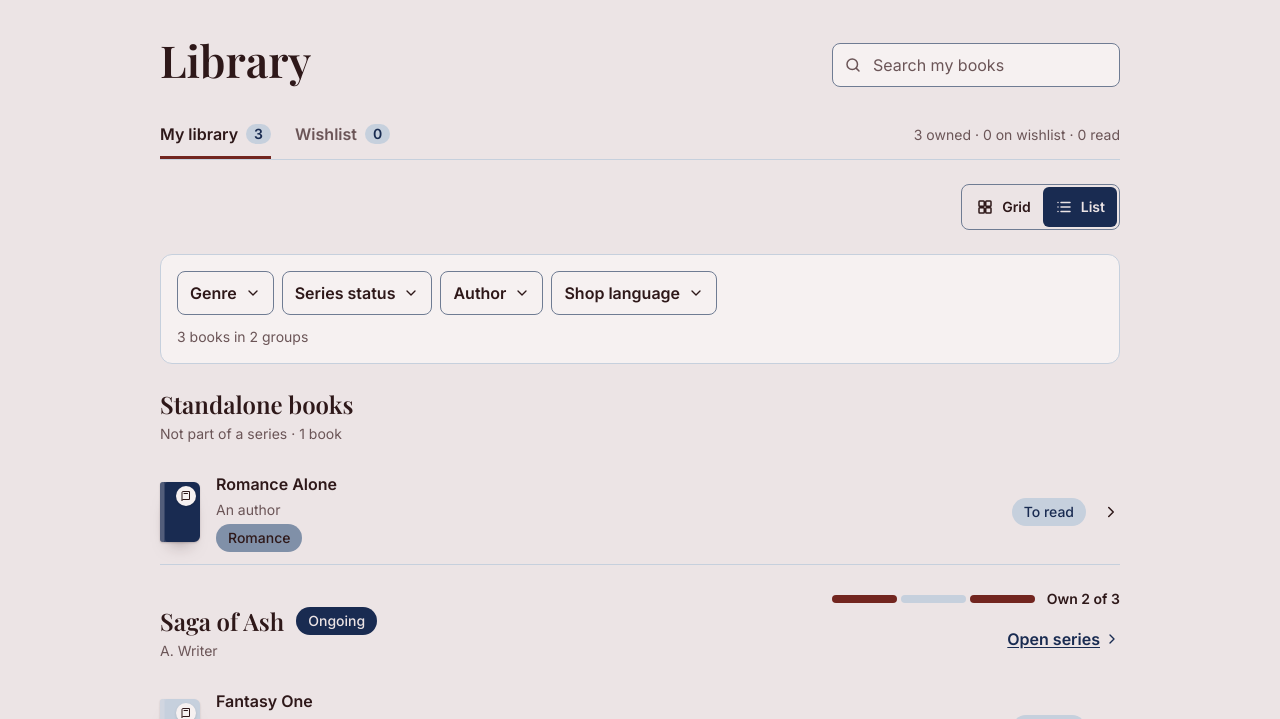
Test: Library › filters and states › narrows to the chosen genre and counts what is left
The image size is (1280, 719).
Check: the text "Romance Alone" is shown, box [216,474,337,494]
Click the button "Genre". click: coordinates (225, 293)
box: [177,271,274,315]
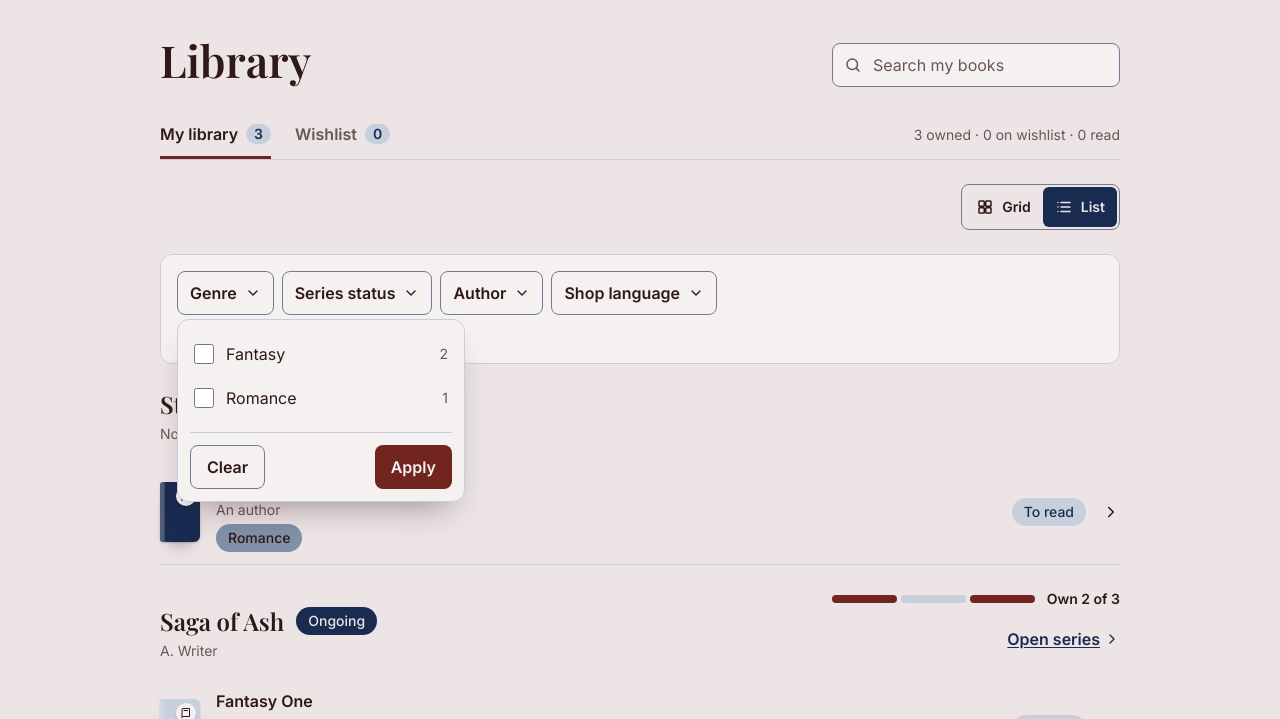
Check: the checkbox labelled "Romance 1" is shown
Click the checkbox labelled "Romance 1". click: coordinates (204, 398)
box: [194,388,214,408]
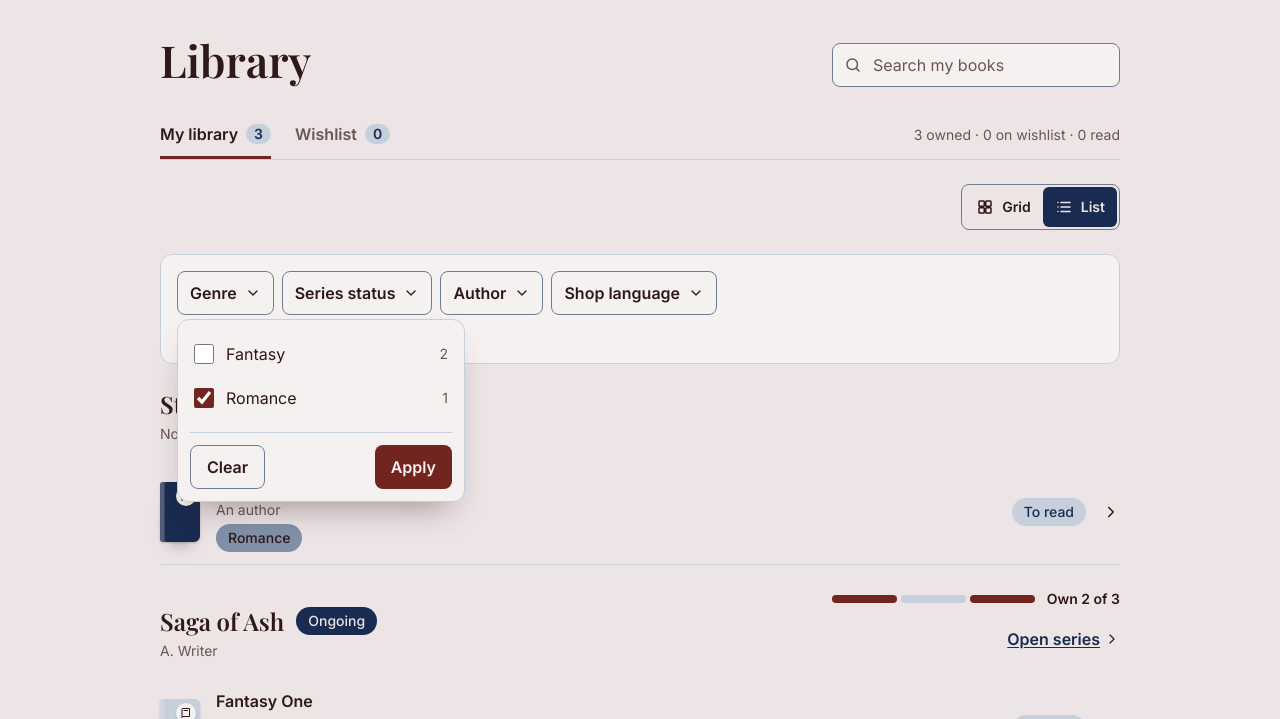
Click the button "Apply". click: coordinates (413, 467)
box: [375,445,452,489]
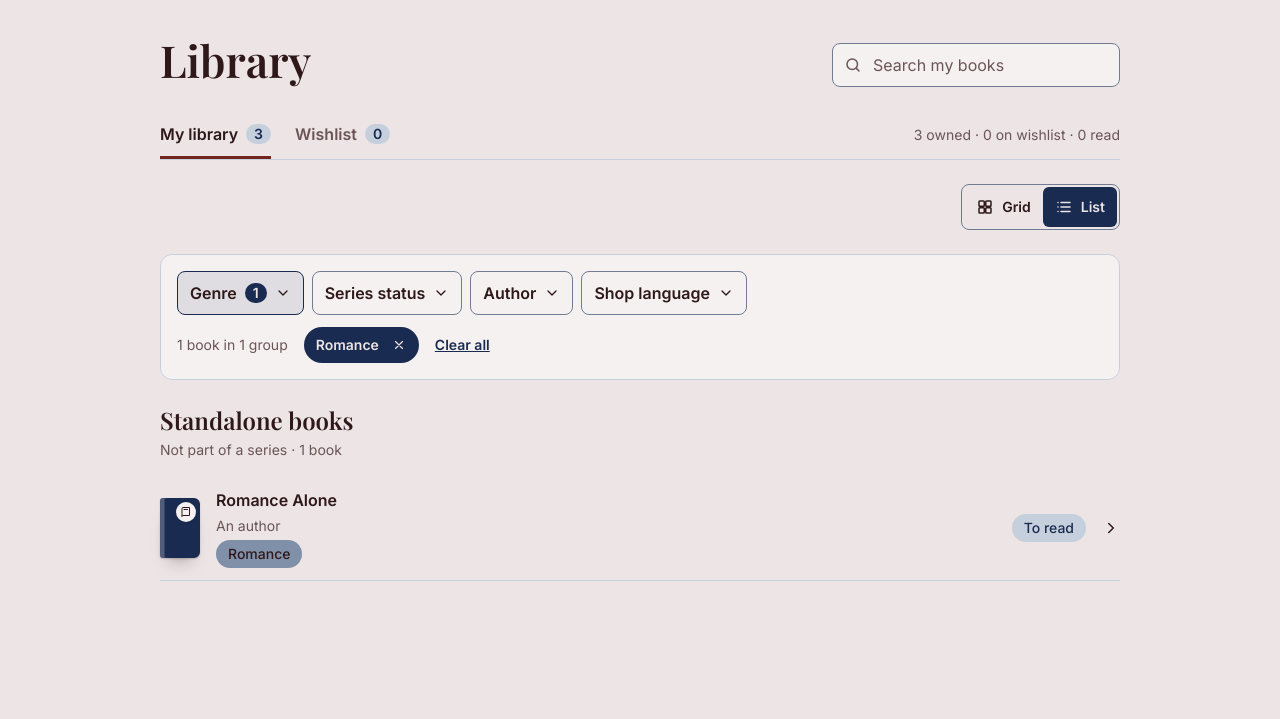
Check: the text "Romance Alone" is shown, box [216,490,337,510]
Check: the link "Fantasy One" is gone
Check: the text "1 book in 1 group" is shown, box [177,335,288,355]
